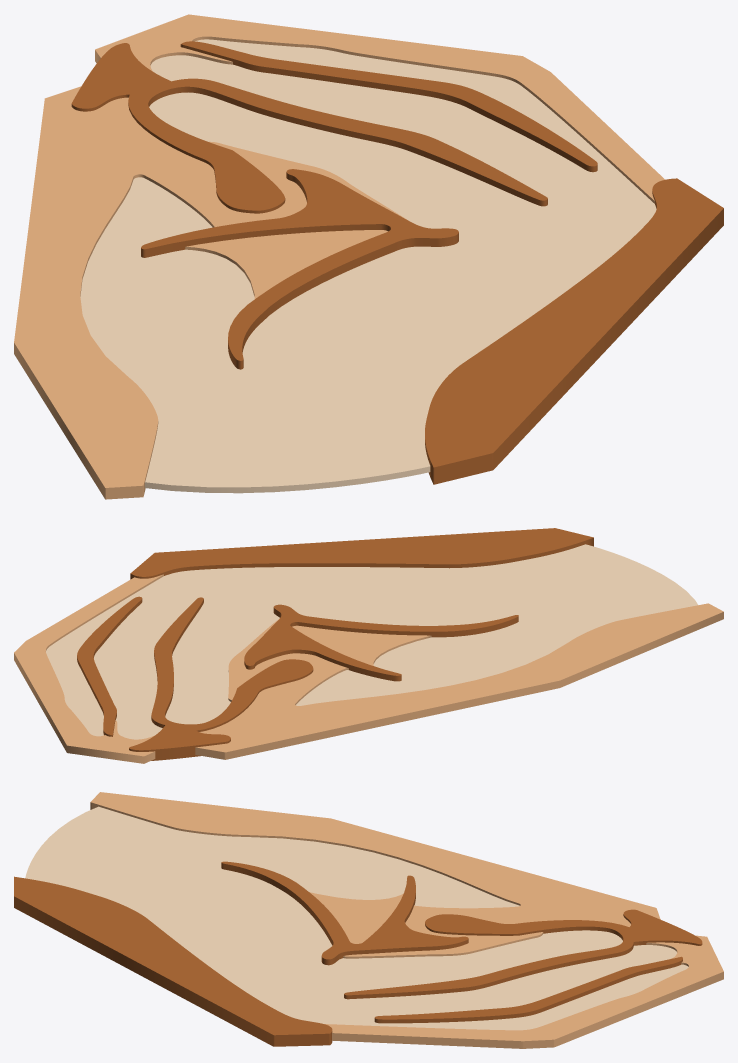
File: emoji_u1f90c_1f3fb.glb
3 views of the same model, one above another, from view 1: azimuth 30°, elevation 25°; view 2: azimuth 150°, elevation 25°; view 3: azimuth 270°, elevation 25° (orthographic). The views are drawn at different scales.
Visible parts, largest first — view 1: emoji_u1f90c_1f3fb; view 2: emoji_u1f90c_1f3fb; view 3: emoji_u1f90c_1f3fb.
Boxes of the visible parts, x1,y1,x2,y2 form: emoji_u1f90c_1f3fb: (14,14,723,499); emoji_u1f90c_1f3fb: (14,528,723,763); emoji_u1f90c_1f3fb: (14,792,723,1048).
Size of the model in its own units: 0.0276 by 0.0008 by 0.0333.
